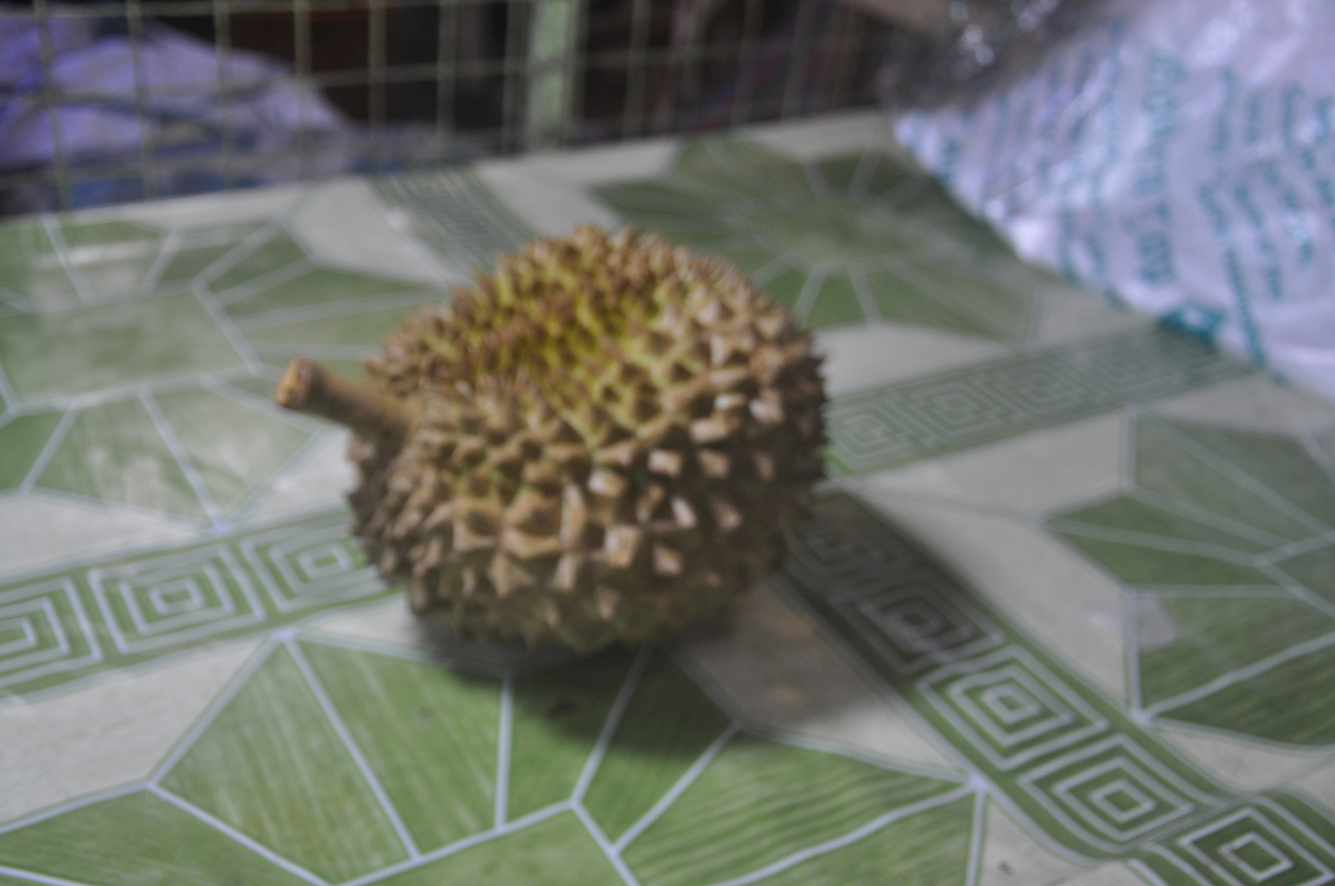mature: (276, 226, 825, 650)
